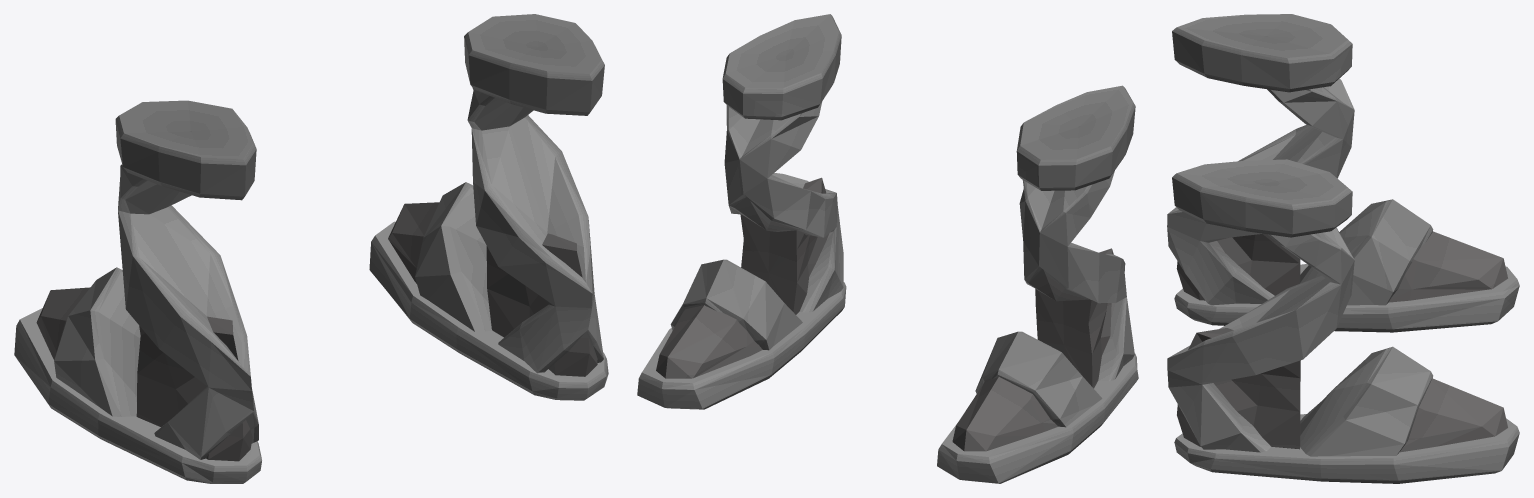
Rendered from CharSkyKid_Feet_AP20ShortStraps.glb.
3 renders of one model, left to right at view 1: azimuth 30°, elevation 25°; view 2: azimuth 150°, elevation 25°; view 3: azimuth 270°, elevation 25°, orthographic. The views are drawn at different scales.
Parts seen in each view (by area): view 1: CharSkyKid_Feet_AP20ShortStraps; view 2: CharSkyKid_Feet_AP20ShortStraps; view 3: CharSkyKid_Feet_AP20ShortStraps.
Boxes of the visible parts, x1,y1,x2,y2 form: CharSkyKid_Feet_AP20ShortStraps: (14, 14, 608, 483); CharSkyKid_Feet_AP20ShortStraps: (637, 14, 1138, 483); CharSkyKid_Feet_AP20ShortStraps: (1167, 14, 1519, 483).
Size of the model in its own units: 2.53 by 1.65 by 1.85.
Materials: 1 (1 with a texture image).
